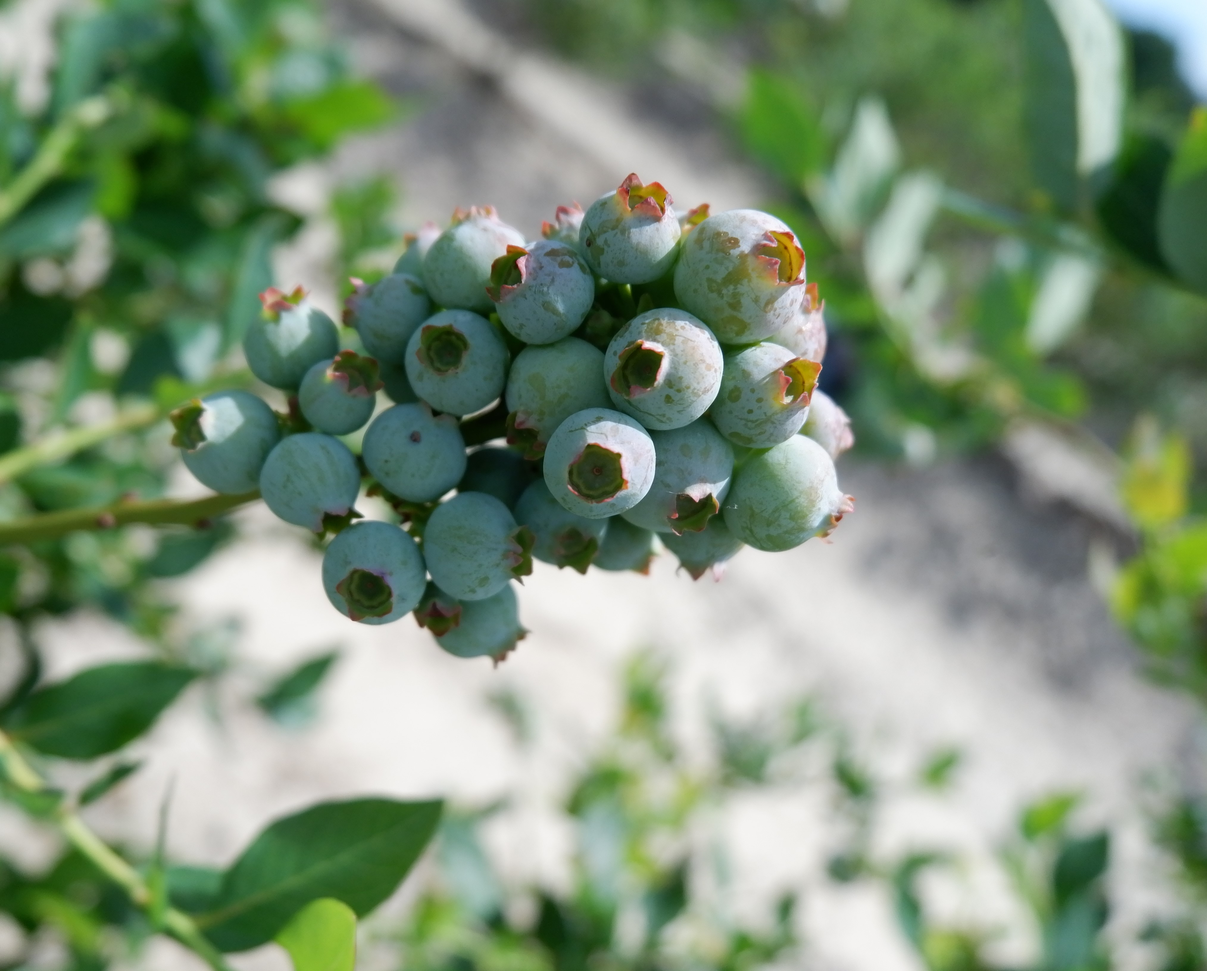Immature: (675, 212, 804, 340), (726, 434, 850, 548), (608, 310, 721, 427), (620, 420, 733, 533), (507, 341, 606, 456), (545, 412, 655, 515), (424, 494, 527, 600), (423, 205, 524, 313), (713, 345, 817, 445), (491, 241, 592, 341), (176, 394, 277, 492), (407, 312, 505, 412), (324, 522, 421, 623), (585, 178, 679, 282), (364, 403, 463, 499), (260, 435, 357, 531), (245, 287, 335, 388), (516, 479, 608, 568), (345, 276, 432, 361), (434, 588, 528, 665), (299, 349, 381, 433), (677, 516, 736, 582), (772, 284, 825, 357), (799, 392, 852, 455), (594, 518, 652, 571), (411, 580, 459, 634), (675, 201, 710, 253), (543, 204, 583, 248), (397, 230, 431, 276)
